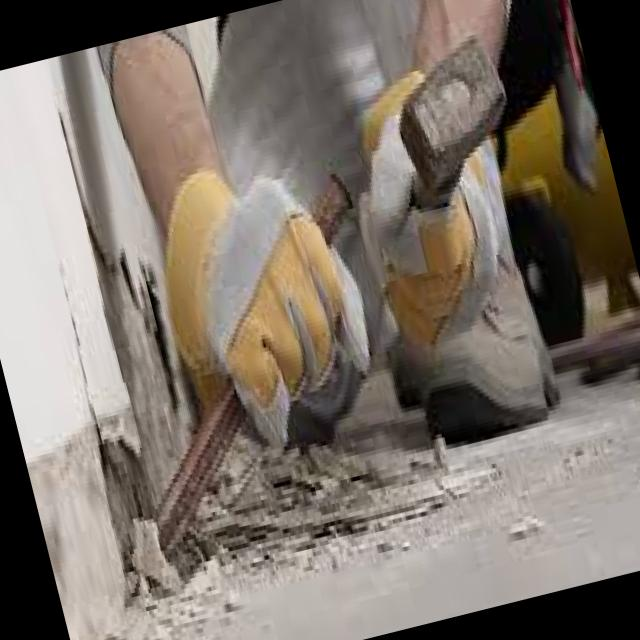gloved: (134, 137, 394, 474), (330, 54, 542, 353)
